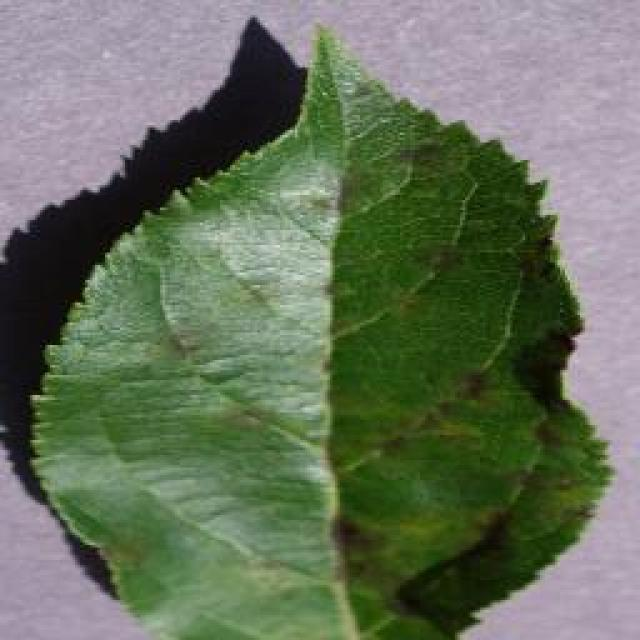apple scab disease: (17, 15, 615, 637)
